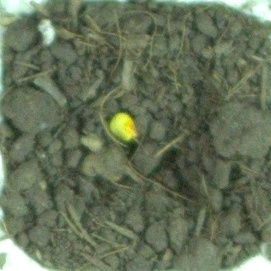pepper seed: (35, 38, 177, 183)
